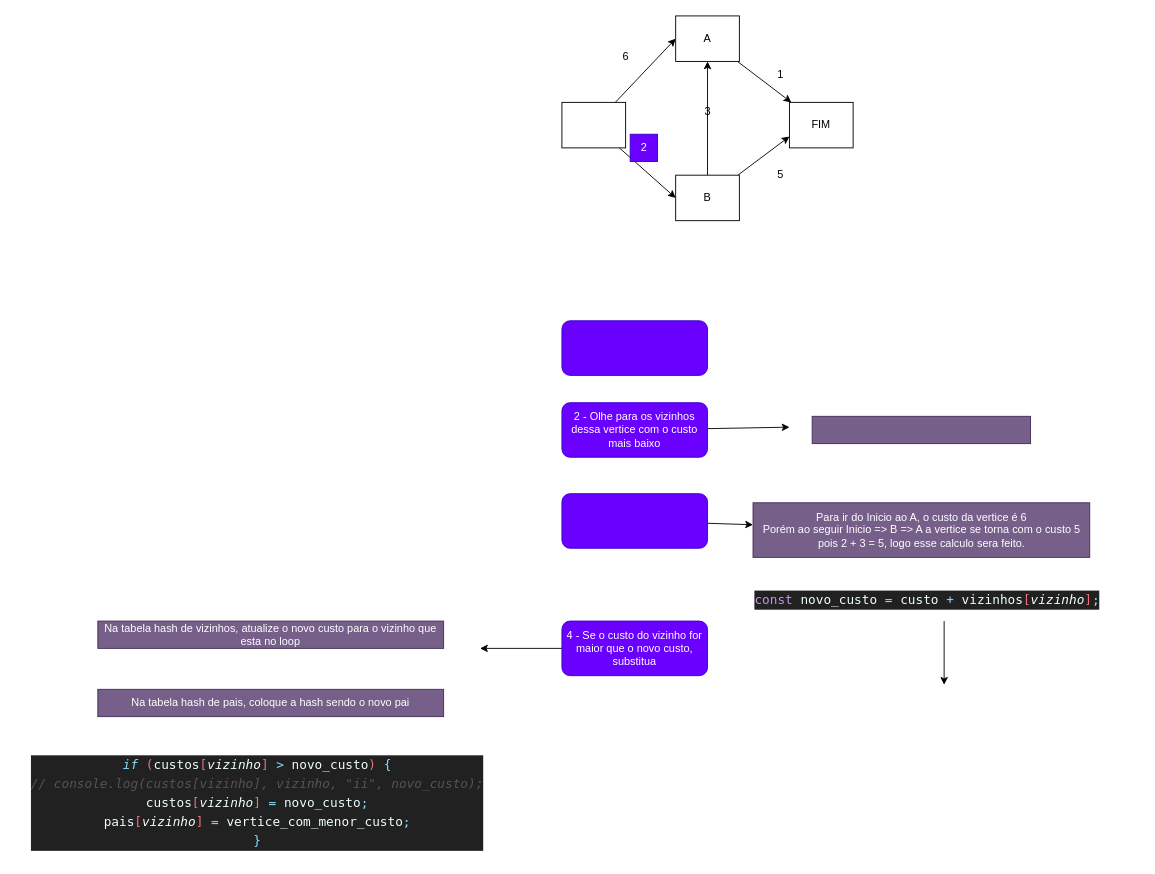
Image size: 1155x874. Some labels were removed from this diagram. The shapes that lost their labels are listed below. From the top down, each one's centre as x and y in pixels, then its label:
At point 593,124: "Inicio".
At point 634,347: "1 - Ache o custo mais baixo pra começar".
At point 921,429: "No caso de B, os vizinhos são, A e FIM".
At point 634,520: "3 - Calcule o novo custo, por exemplo :".
